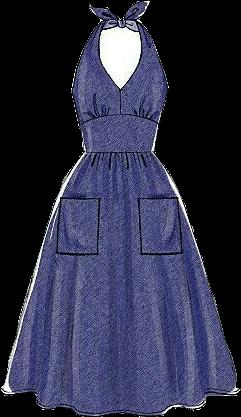Bodice: (71, 19, 168, 154)
Hemline: (0, 388, 239, 416)
Neckline: (96, 18, 143, 91), (78, 86, 159, 124)
Skirt: (0, 152, 239, 415)
Waistline: (81, 148, 155, 158)
